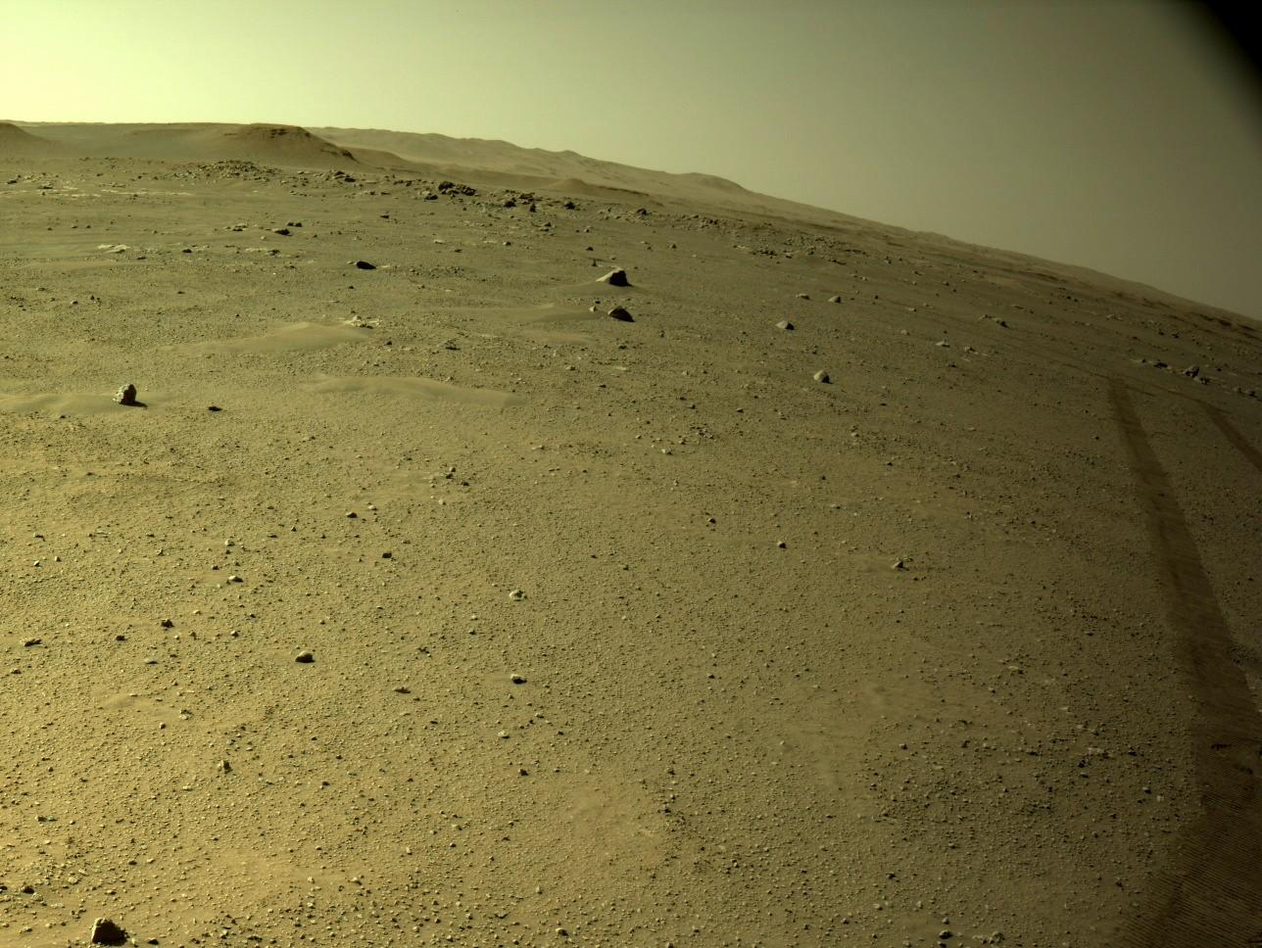bedrock: (1092, 296, 1145, 308)
big_rock: (434, 186, 567, 201)
sand: (4, 118, 1232, 317)
soil: (2, 160, 1261, 943), (1070, 292, 1082, 294)
